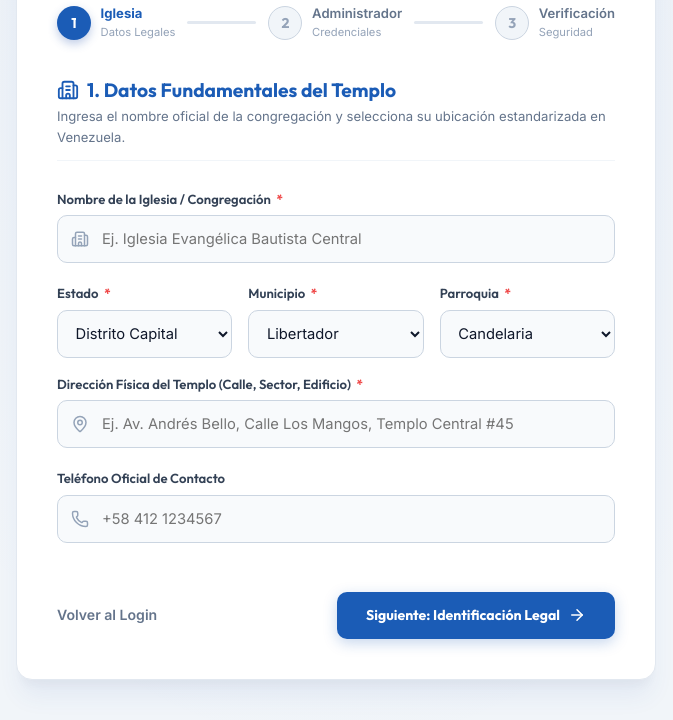
Test: CreateOngWizard Component › validates Step 1 required fields before moving to Step 2
(page scrolled)
Click the button "Siguiente: Identificación Legal".
click(476, 615)  # box [337, 592, 615, 639]
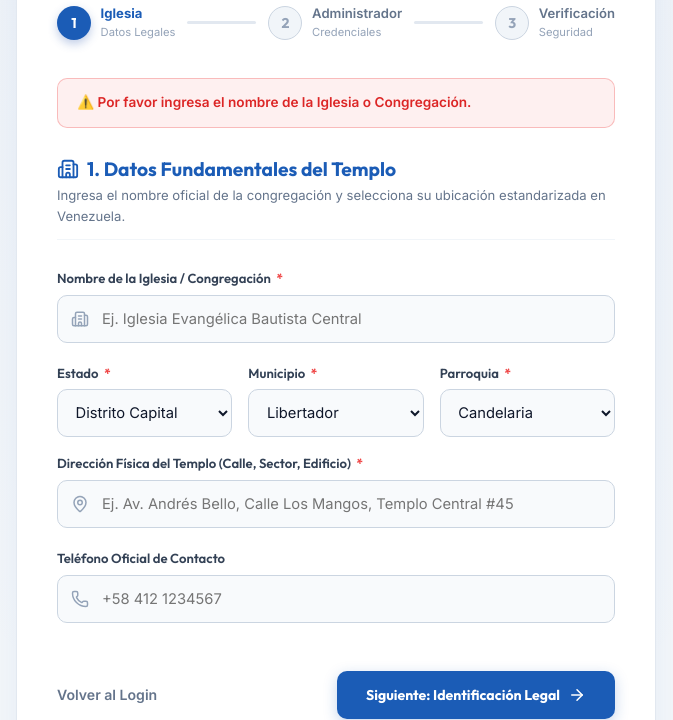
Expected: the text "⚠️ Por favor ingresa el nombre de la Iglesia o Congregación." is shown, [57, 78, 615, 128]
